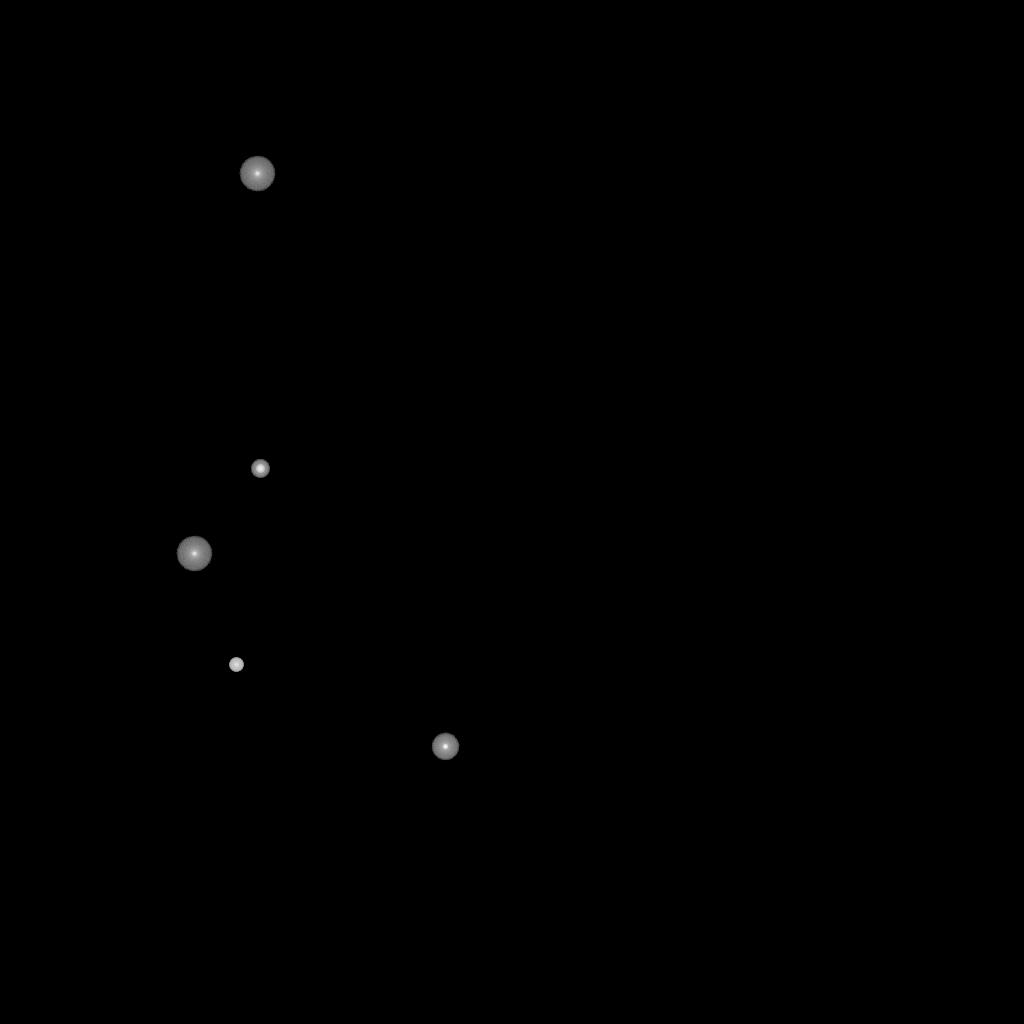depth:-10: (431, 733, 459, 761)
depth:-20: (251, 460, 269, 478)
depth:-30: (229, 658, 243, 672)
depth:0: (239, 156, 275, 192), (176, 536, 212, 572)
